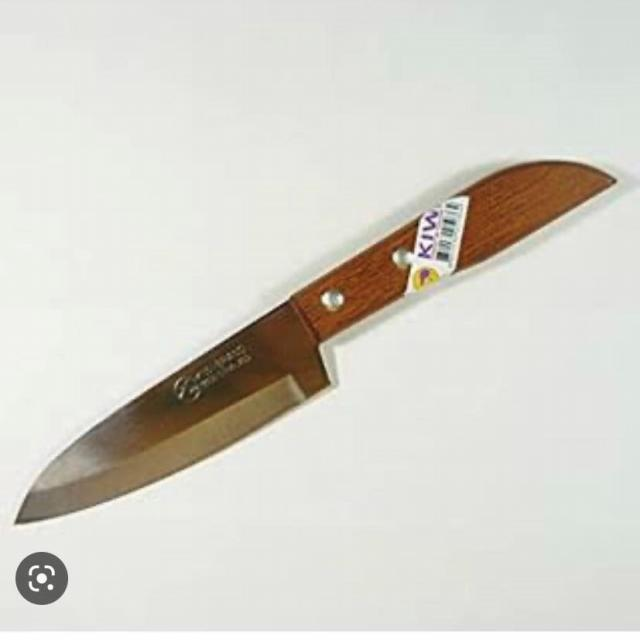Knife: (14, 153, 621, 527)
